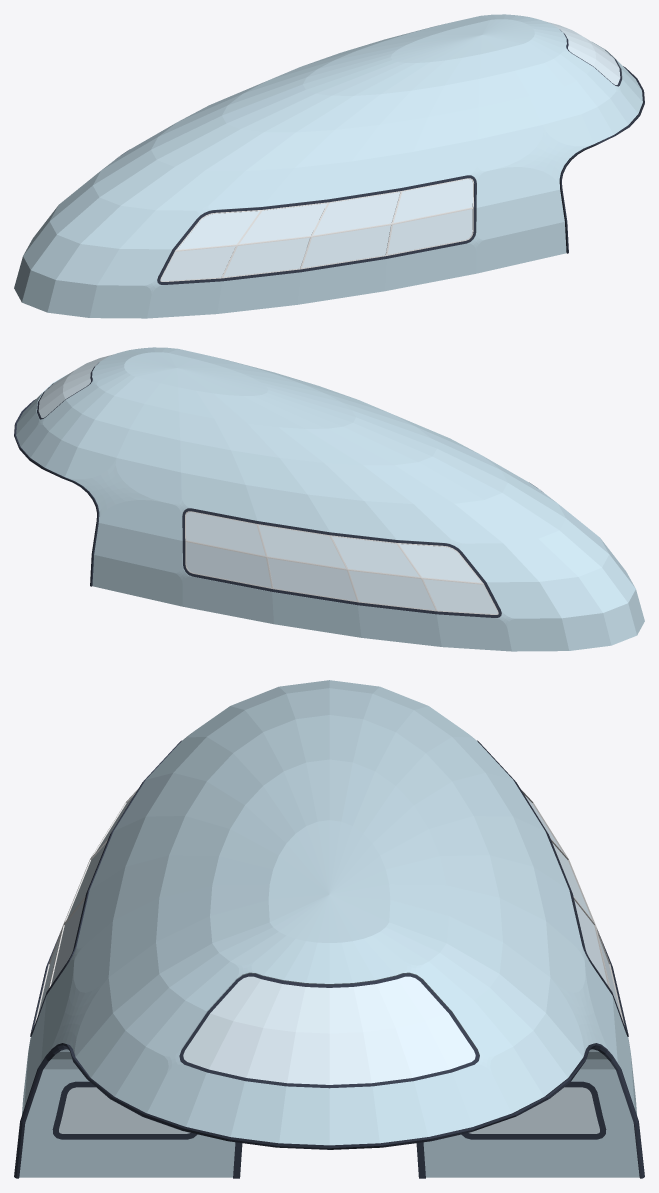
File: Windhouse_01_open.fbx
3 renders of one model, top to bottom at view 1: azimuth 30°, elevation 25°; view 2: azimuth 150°, elevation 25°; view 3: azimuth 270°, elevation 25°, orthographic. The views are drawn at different scales.
Parts seen in each view (by area): view 1: Wind-House; view 2: Wind-House; view 3: Wind-House, Windows-Outside.
Boxes of the visible parts, box(x1,y1,x2,y2) form: Wind-House: box(14, 14, 644, 318); Wind-House: box(14, 347, 644, 651); Wind-House: box(14, 680, 644, 1178); Windows-Outside: box(52, 1081, 606, 1139).
Bounding box in the file's own units: 1628 × 400 × 808.
